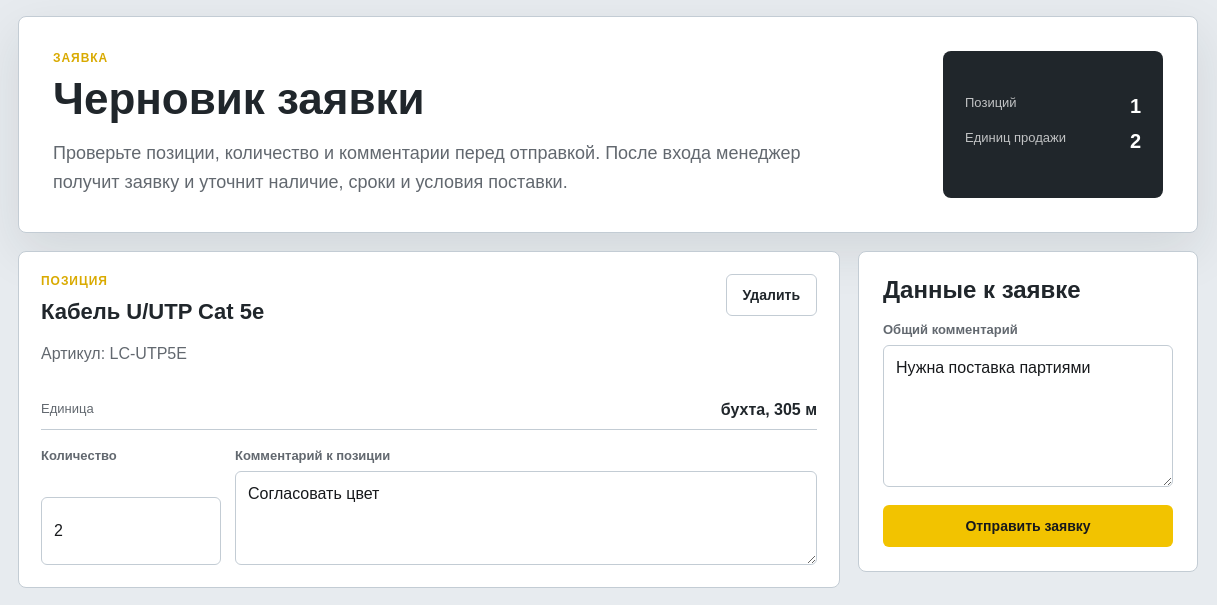
Test: RequestPage › submits an authenticated draft and redirects to the created request
Expected: the link "Кабель U/UTP Cat 5e" is shown, [41,299,264,324]
Step 1. Click the button "Отправить заявку" → (1028, 526), box [883,505,1173,547]
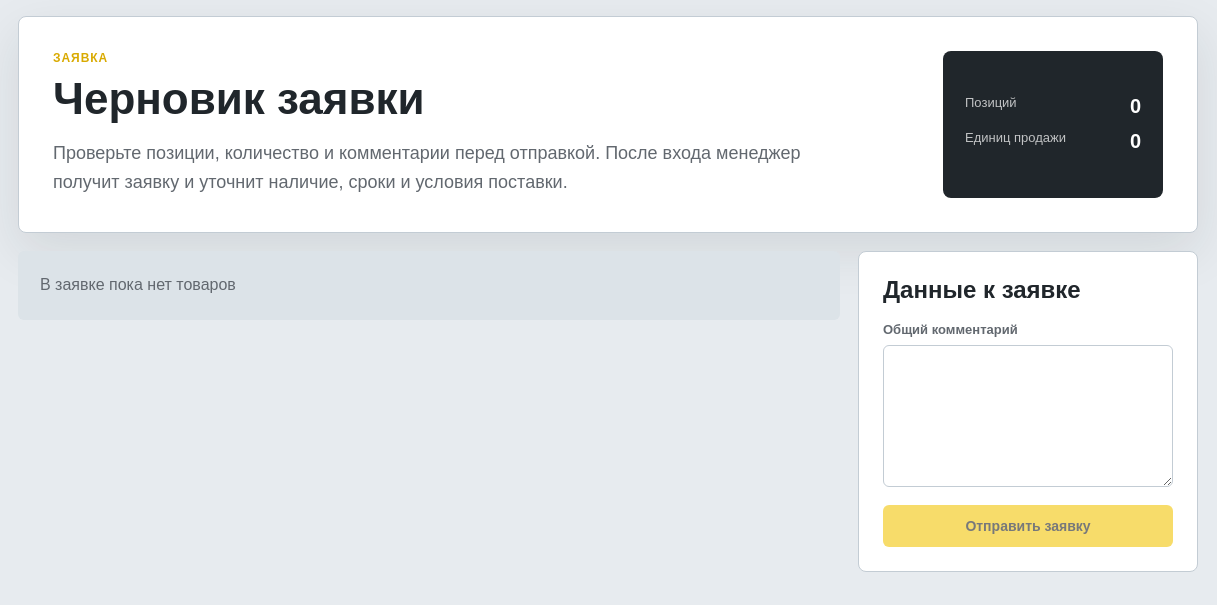
Now the text "В заявке пока нет товаров" is shown, box [18,251,840,320]
